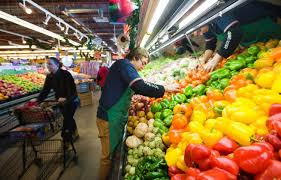Caution: (32, 46, 153, 148)
